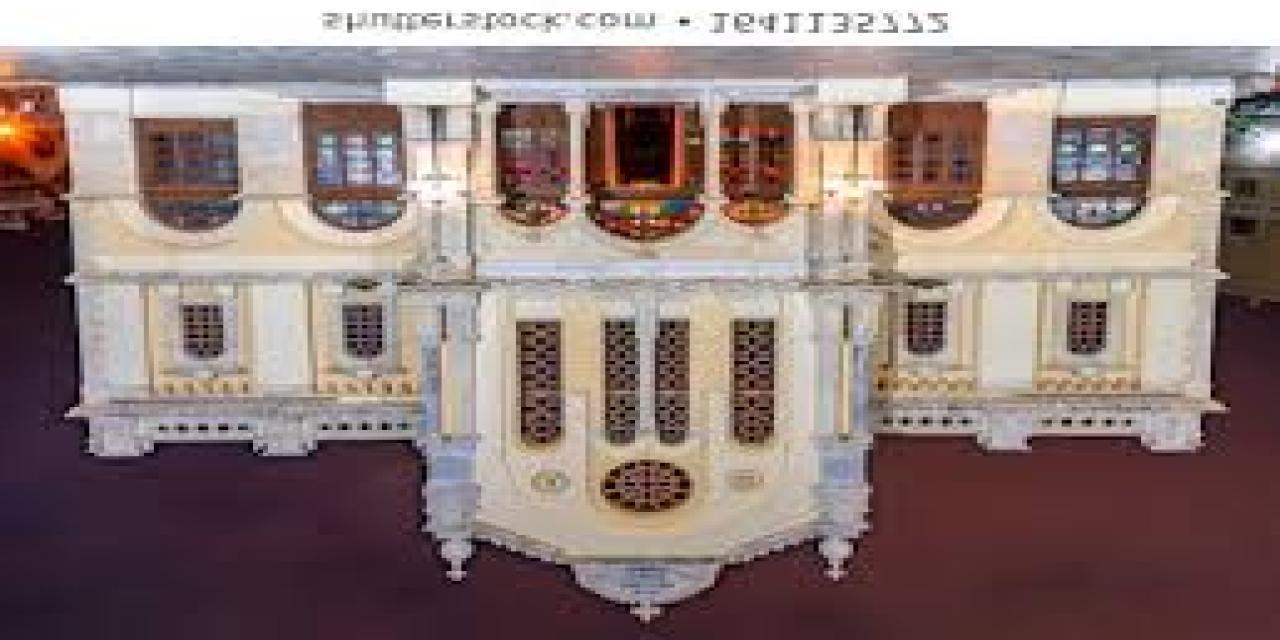Agios Minas: (52, 72, 1240, 625)
